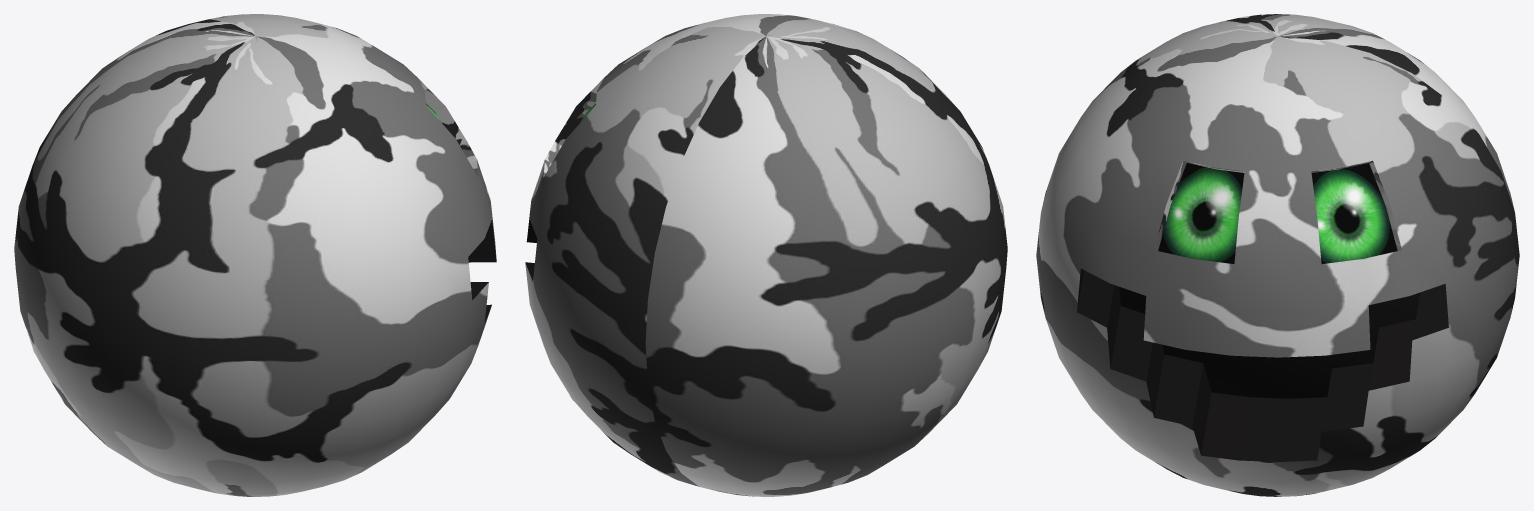
Rendered from ballthazar.FBX.
3 renders of one model, left to right at view 1: azimuth 30°, elevation 25°; view 2: azimuth 150°, elevation 25°; view 3: azimuth 270°, elevation 25°, orthographic.
Visible parts, largest first — view 1: Sphere001; view 2: Sphere001; view 3: Sphere001.
Part boxes in pixels (x1,y1,x2,y2): Sphere001: [14, 14, 496, 496]; Sphere001: [525, 14, 1007, 496]; Sphere001: [1036, 14, 1519, 496].
Bounding box in the file's own units: 86.38 × 86.38 × 86.38.
